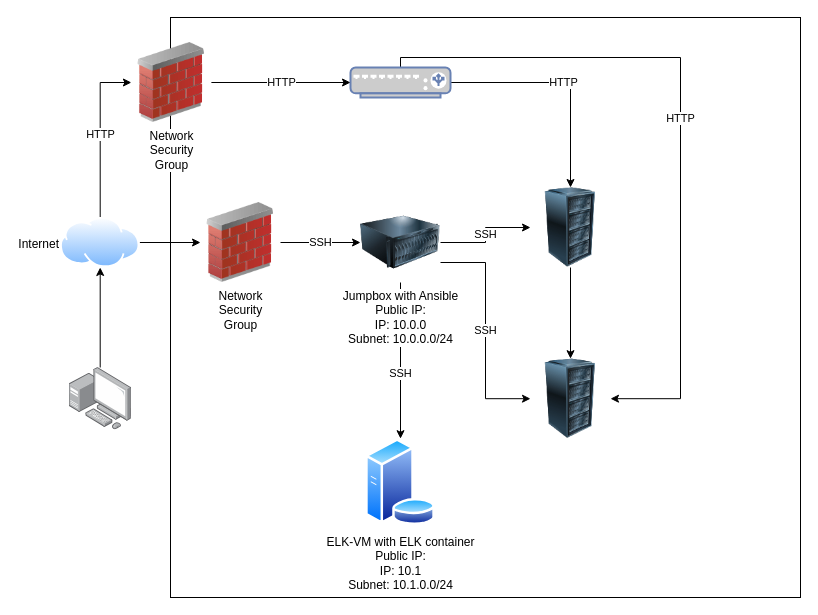
This 818x615 diagram has some shape labels left out. The centre of each missing label's shape, as x and y in pixels:
"Web-1 w/ DVWA container IP: 10.0.0 Subnet: 10.0.0.0/24" belongs at point 570,227.
"Web-2 w/ DVWA container IP: 10.0.0 Subnet: 10.0.0.0/24" belongs at point 570,398.
"Workstation (Personal)" belongs at point 99,398.
